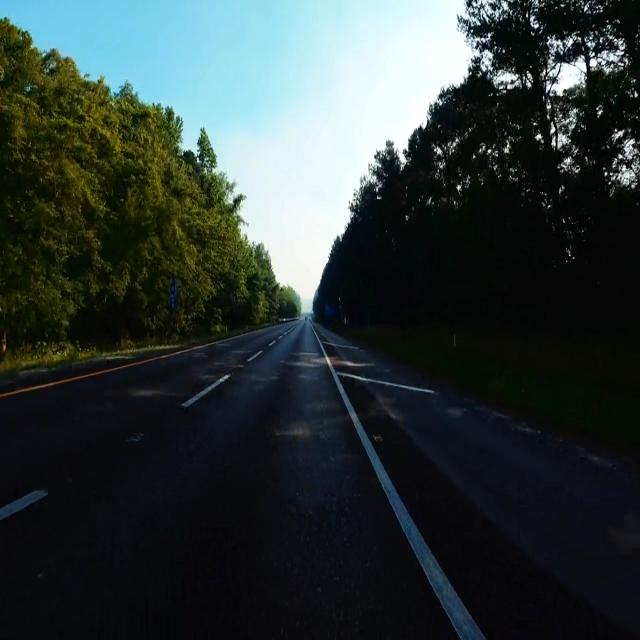road: (0, 319, 456, 637), (316, 325, 640, 636)
